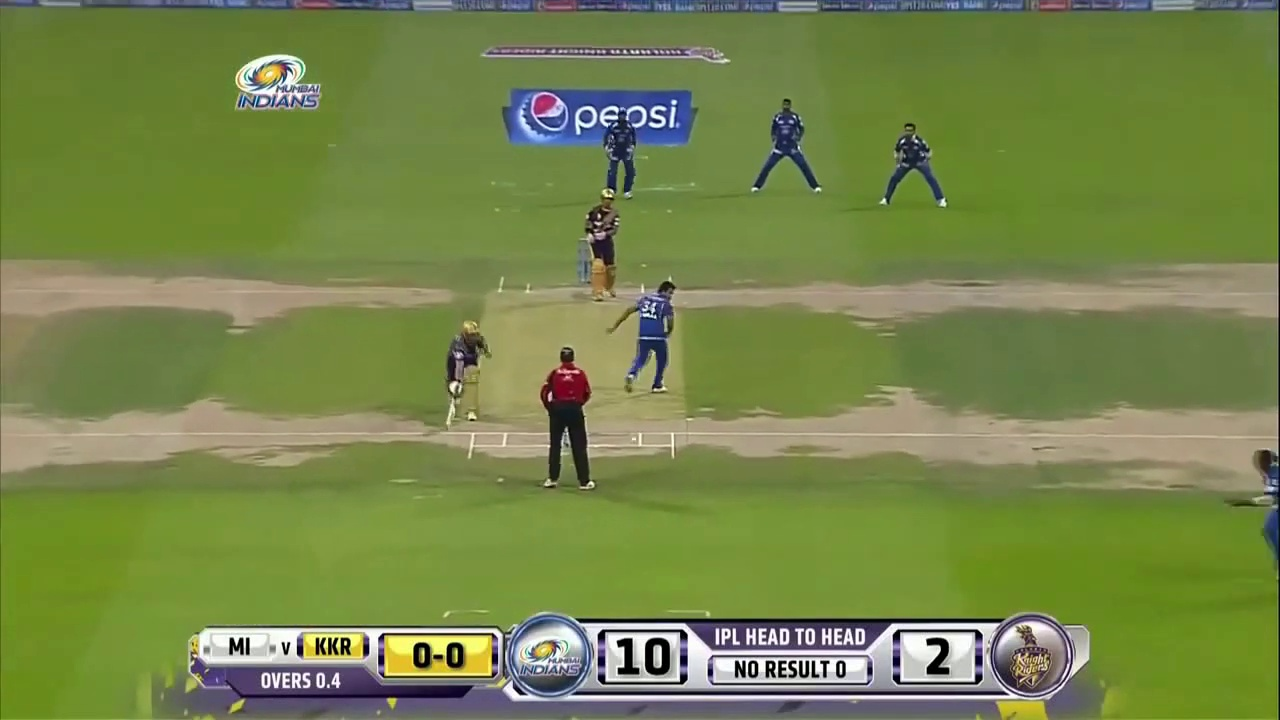bat: (445, 400, 458, 427)
